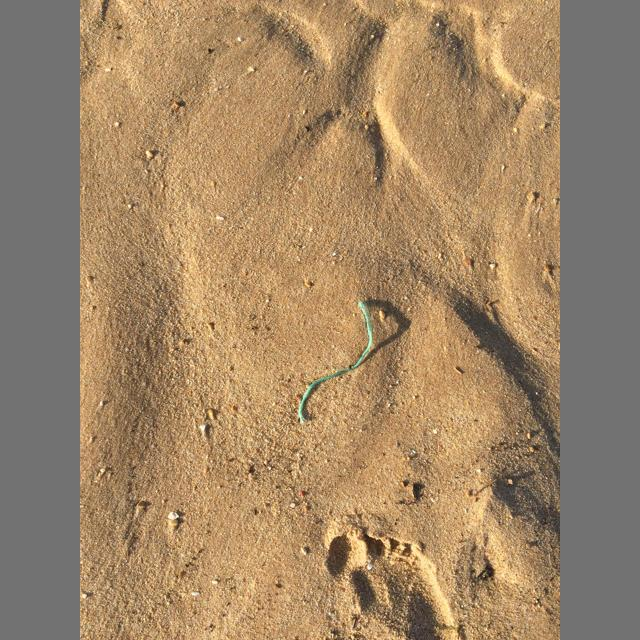litter: (299, 301, 372, 422)
